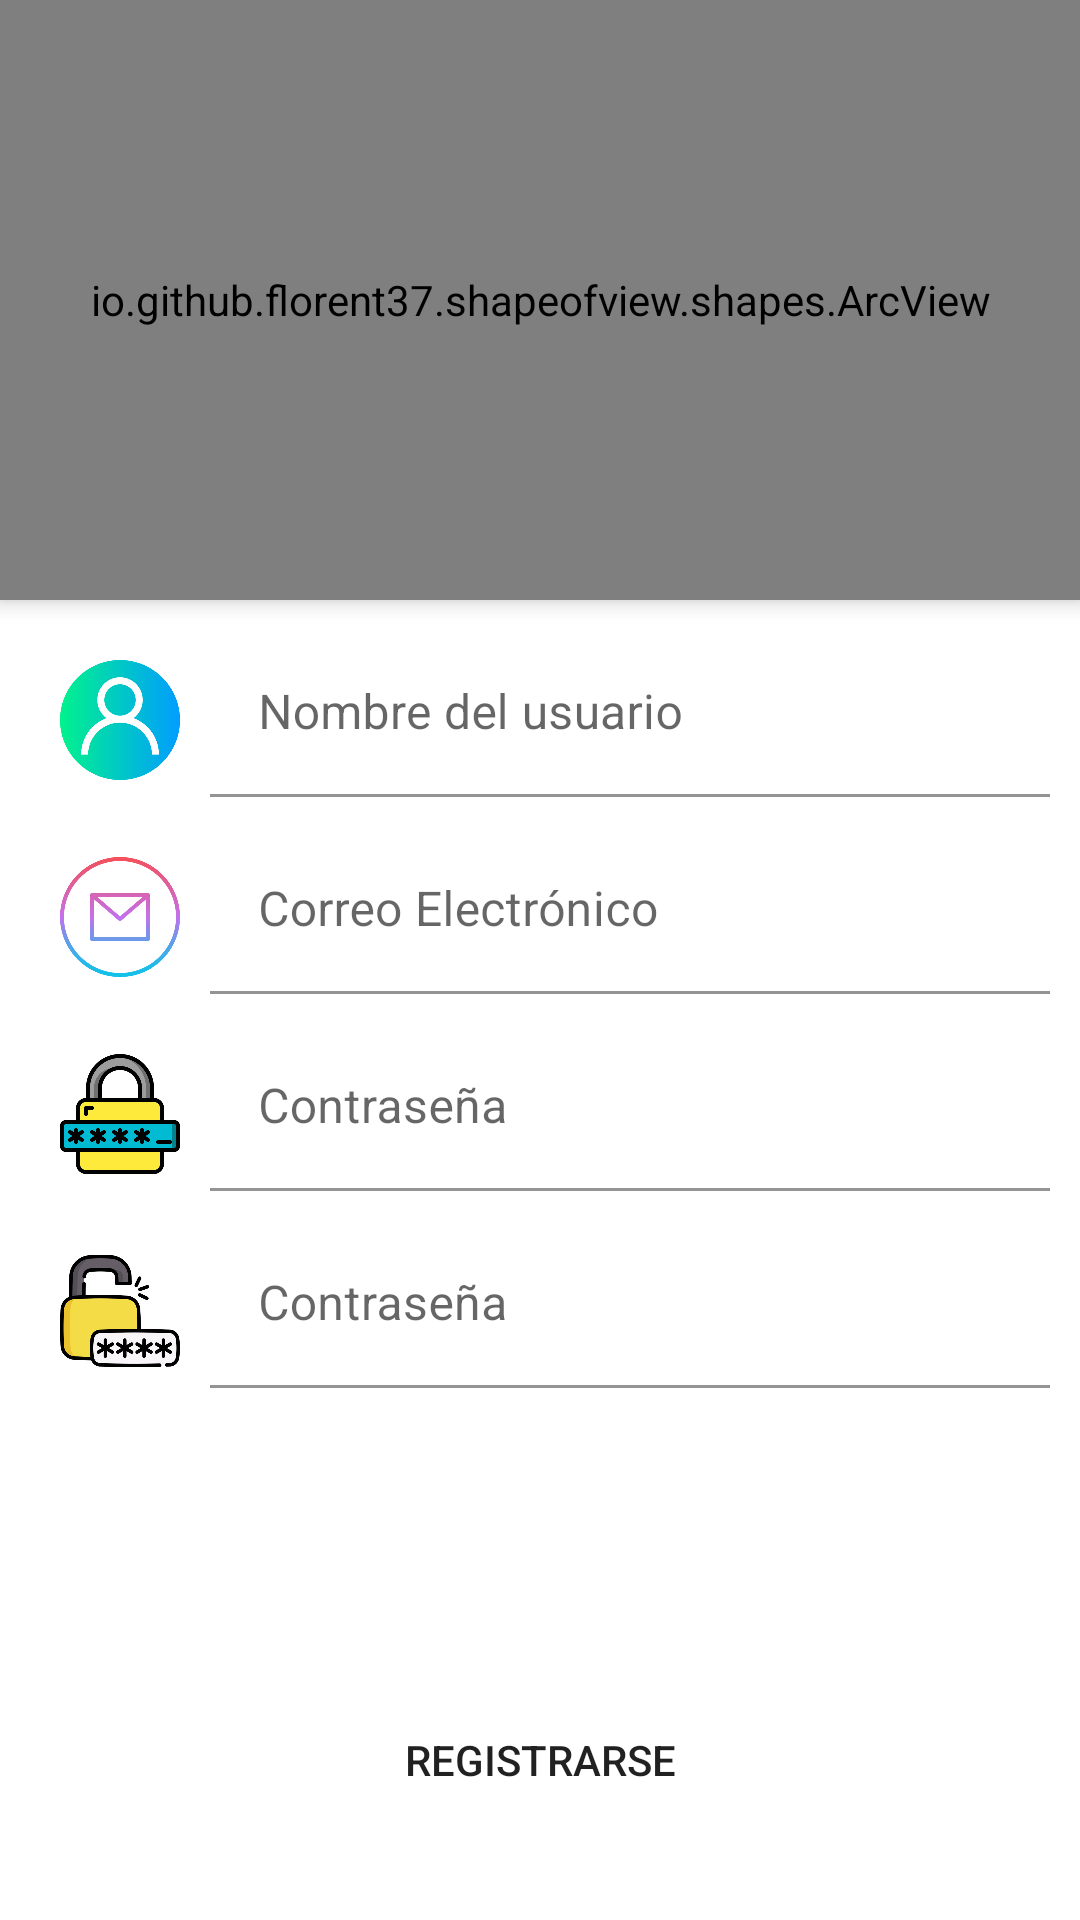

Named icons in this screenshot (1080x1920) and their centers, (x=x, y=y):
confirmar contrase: (x=120, y=1311)
email: (x=120, y=917)
user: (x=120, y=720)
